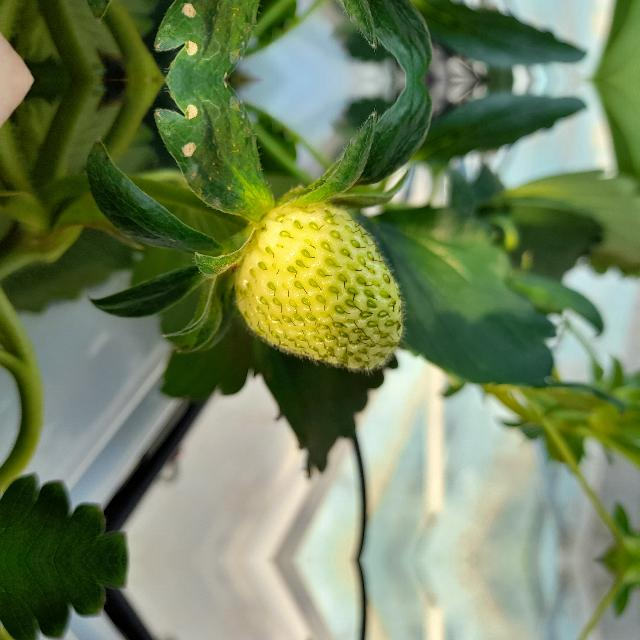Health_25: (232, 202, 408, 374)
